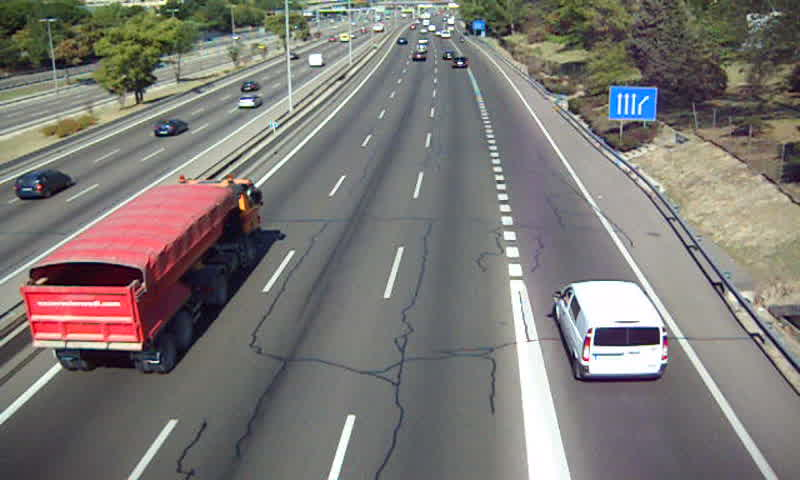car: (450, 56, 469, 70)
truck: (19, 177, 262, 367)
van: (553, 280, 669, 380)
